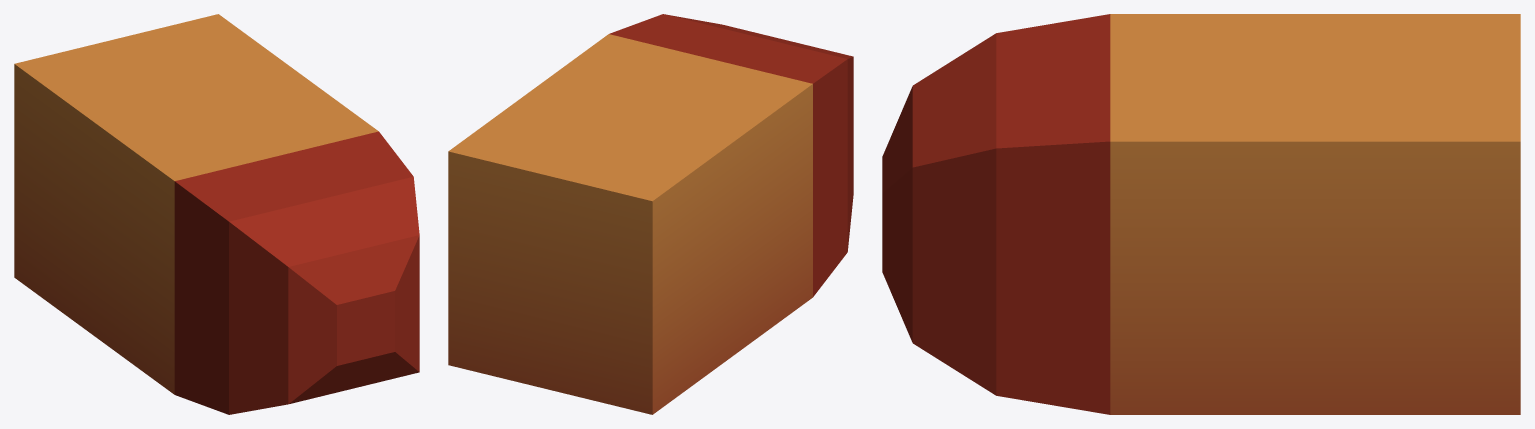
The model's file is ПУЛЯ.fbx.
3 renders of one model, left to right at view 1: azimuth 30°, elevation 25°; view 2: azimuth 150°, elevation 25°; view 3: azimuth 270°, elevation 25°, orthographic. The views are drawn at different scales.
Visible parts, largest first — view 1: Cube; view 2: Cube; view 3: Cube.
Boxes of the visible parts, x1=… form: Cube: x1=14, y1=14, x2=419, y2=414; Cube: x1=448, y1=14, x2=853, y2=414; Cube: x1=882, y1=14, x2=1520, y2=414.
Size of the model in its own units: 200 by 200 by 423.
